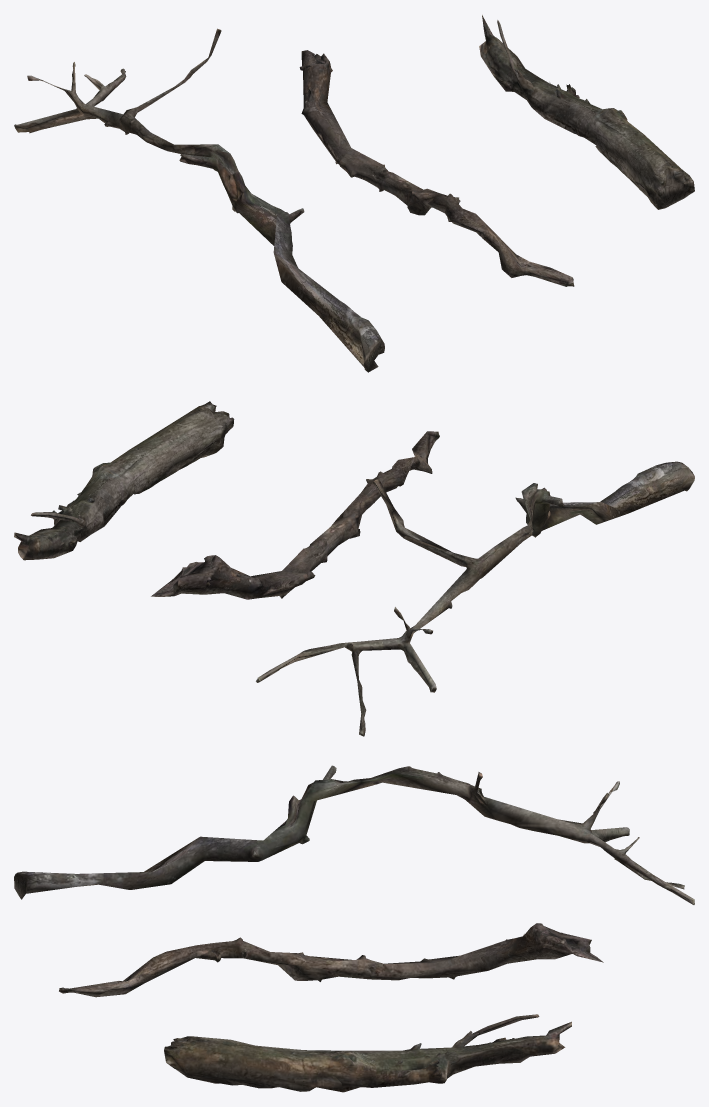
File: dry_branches_medium_01.glb
3 views of the same model, one above another, from view 1: azimuth 30°, elevation 25°; view 2: azimuth 150°, elevation 25°; view 3: azimuth 270°, elevation 25° (orthographic). The views are drawn at different scales.
Visible parts, largest first — view 1: dry_branches_medium_01_a, dry_branches_medium_01_c, dry_branches_medium_01_b; view 2: dry_branches_medium_01_a, dry_branches_medium_01_c, dry_branches_medium_01_b; view 3: dry_branches_medium_01_c, dry_branches_medium_01_a, dry_branches_medium_01_b.
Part boxes in pixels (x1,y1,x2,y2): dry_branches_medium_01_a: (14,28,384,372); dry_branches_medium_01_c: (479,15,694,209); dry_branches_medium_01_b: (299,50,574,286); dry_branches_medium_01_a: (256,461,694,736); dry_branches_medium_01_c: (14,401,234,560); dry_branches_medium_01_b: (151,431,439,599); dry_branches_medium_01_c: (164,1014,571,1092); dry_branches_medium_01_a: (14,765,694,904); dry_branches_medium_01_b: (59,923,603,997).
Size of the model in its own units: 1.06 by 0.3401 by 1.3.
1 material, 1 textured.
